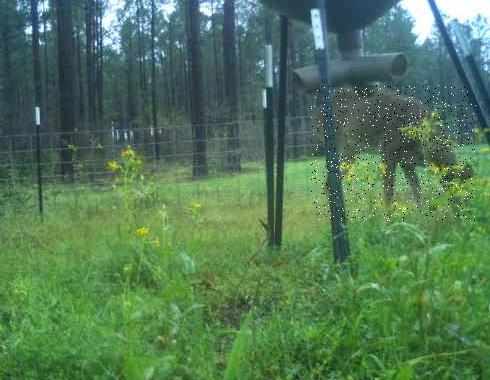Deer: (310, 85, 476, 221)
